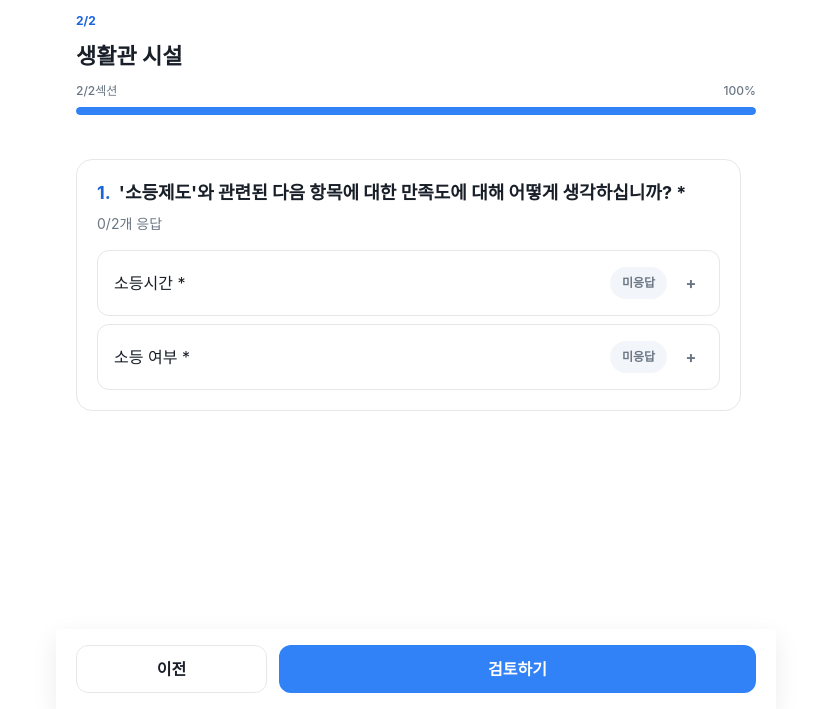
Scenario: SurveySectionPage › renders grouped scale questions as expandable rows and stores answers per original question
expect the heading "1. '소등제도'와 관련된 다음 항목에 대한 만족도에 대해 어떻게 생각하십니까? *" is shown: met, box 97,180 -> 686,206
expect the button "소등시간 * 미응답 +" is shown: met, box 98,251 -> 719,315
What coordinates should you click on to do the following:
click the button "검토하기"
I would click on:
 (517, 669)
Its box is 279,645 -> 756,693.
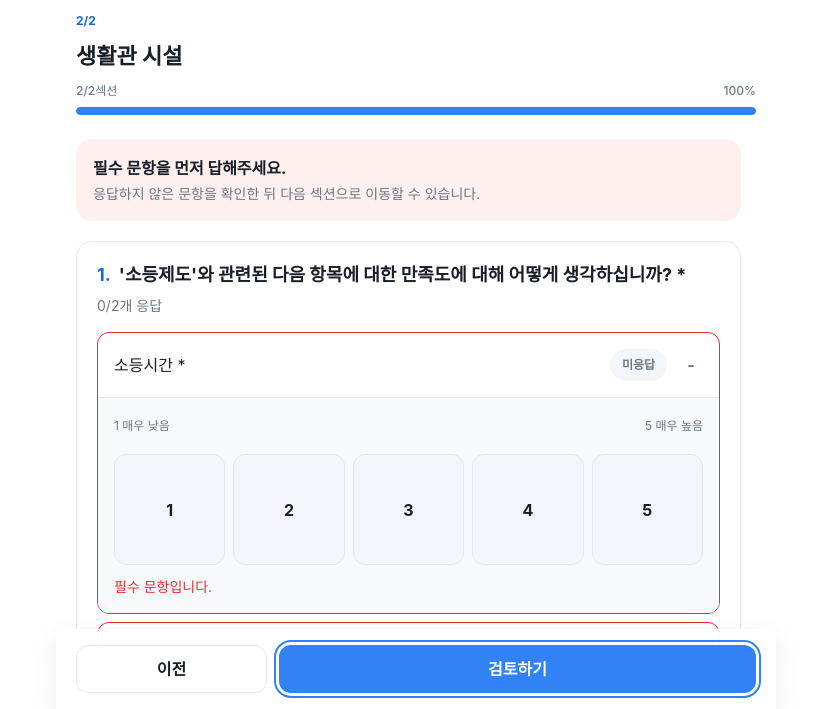
expect the text "필수 문항입니다." is shown: met, box 114,578 -> 212,595
expect the button "1" is shown: met, box 114,454 -> 225,565
What coordinates should you click on to do the following:
click the button "4"
I would click on:
 (528, 510)
Its box is 472,454 -> 584,565.
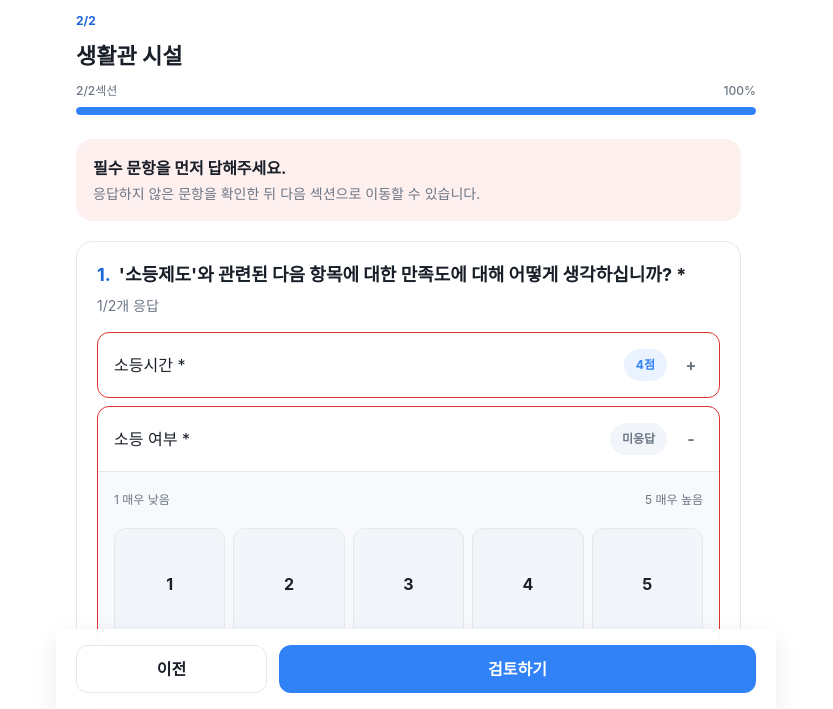
What coordinates should you click on to do the following:
click the button "5"
I would click on:
 (647, 584)
Its box is 592,528 -> 703,639.
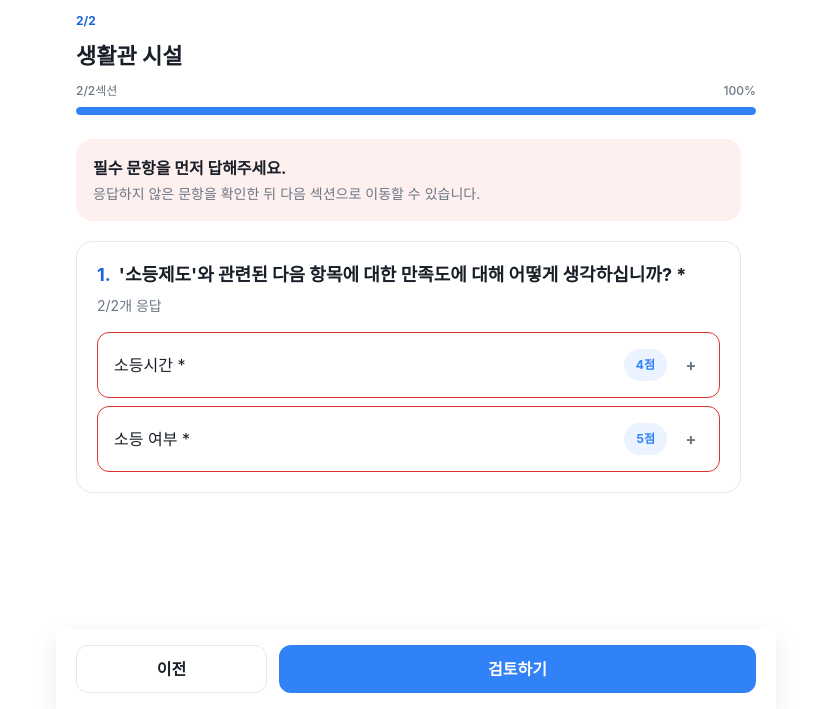
What coordinates should you click on to do the following:
click the button "검토하기"
I would click on:
 (517, 669)
Its box is 279,645 -> 756,693.
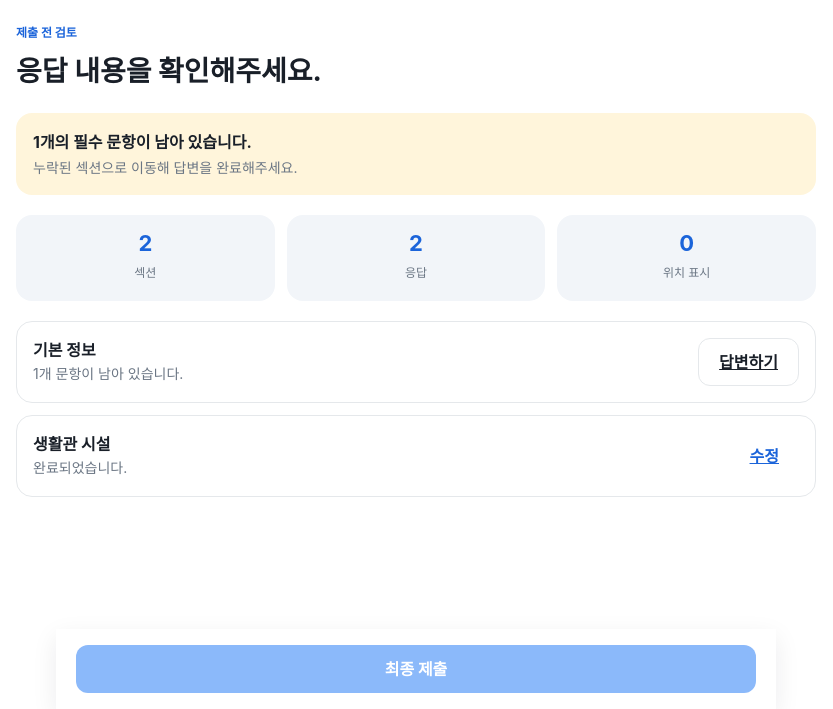
expect the text "제출 전 검토" is shown: met, box 16,25 -> 77,40
